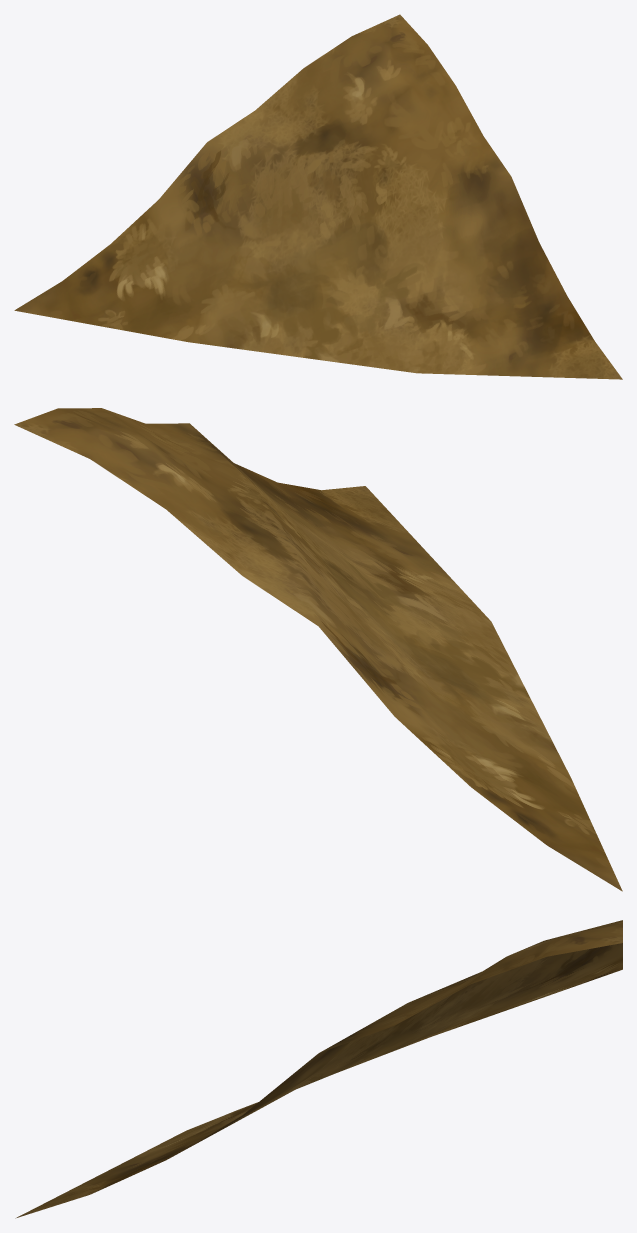
The model's file is Slope_Corner_005.fbx.
The picture shows the model from 3 angles, top to bottom: view 1: azimuth 30°, elevation 25°; view 2: azimuth 150°, elevation 25°; view 3: azimuth 270°, elevation 25°; orthographic projection. The views are drawn at different scales.
Parts seen in each view (by area): view 1: Slope_Corner_005; view 2: Slope_Corner_005; view 3: Slope_Corner_005.
Boxes of the visible parts, <box> form: Slope_Corner_005: <box>14,14,622,379</box>; Slope_Corner_005: <box>14,408,622,891</box>; Slope_Corner_005: <box>15,920,622,1218</box>.
Size of the model in its own units: 10 by 5.12 by 10.
1 material, 1 textured.
